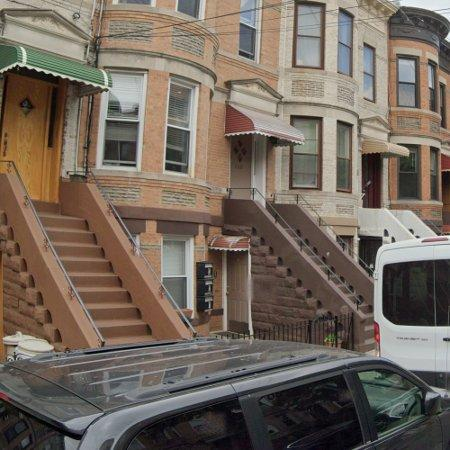stairs: (225, 191, 374, 351), (39, 209, 151, 346)
